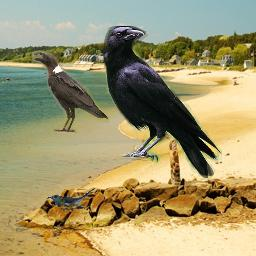Crow: (103, 26, 222, 180), (32, 51, 109, 133)
Cuckoo: (47, 187, 96, 211)
